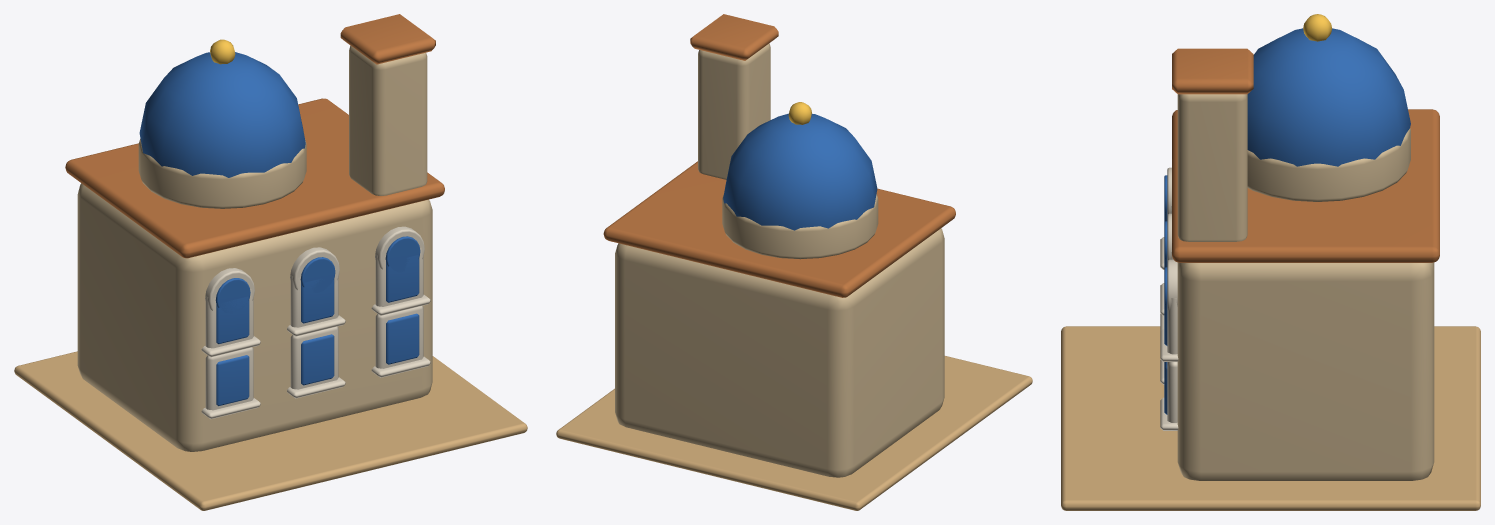
3 renders of one model, left to right at view 1: azimuth 30°, elevation 25°; view 2: azimuth 150°, elevation 25°; view 3: azimuth 270°, elevation 25°, orthographic. The views are drawn at different scales.
Parts seen in each view (by area): view 1: Cube; view 2: Cube; view 3: Cube.
Boxes of the visible parts, x1=… form: Cube: x1=14, y1=14, x2=527, y2=510; Cube: x1=556, y1=14, x2=1032, y2=510; Cube: x1=1061, y1=14, x2=1480, y2=510.
Size of the model in its own units: 0.72 by 0.775 by 0.72.
